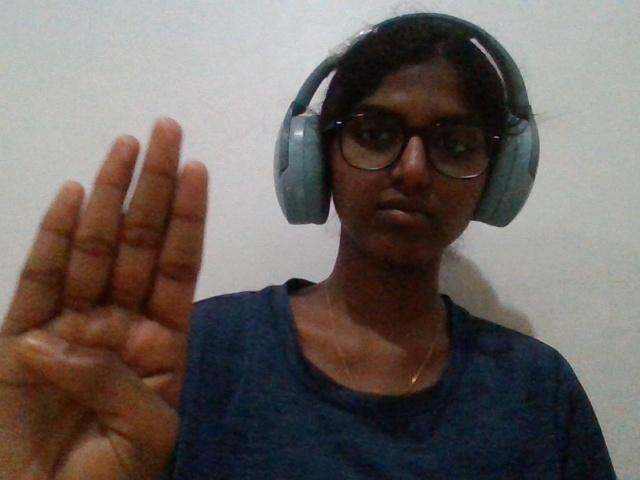B: (1, 91, 212, 480)
